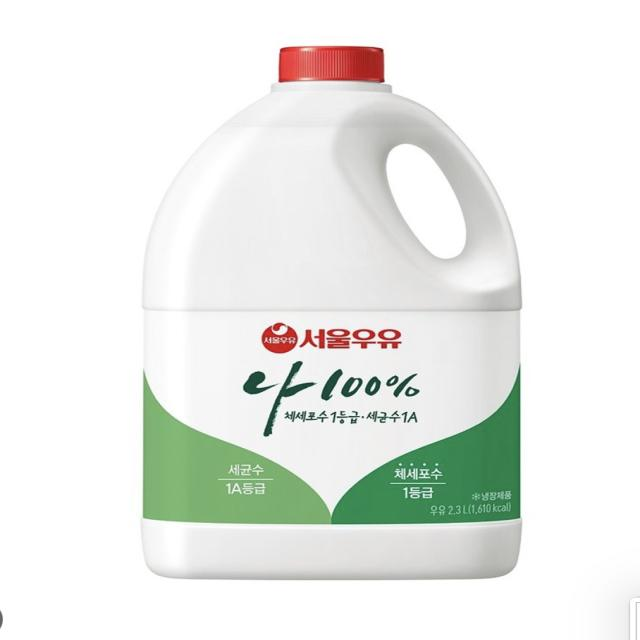recyclable: (98, 25, 586, 606)
